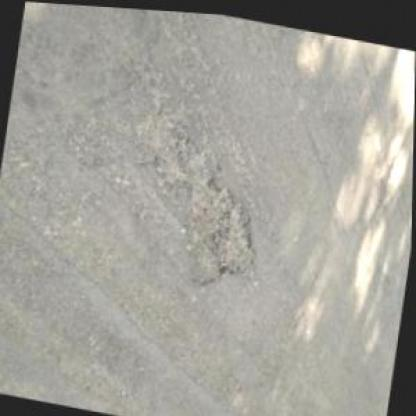pothole: (168, 166, 266, 292), (129, 93, 197, 193), (369, 157, 391, 201)
